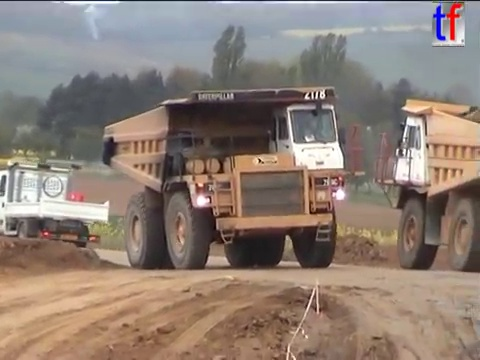truck: (99, 82, 362, 271), (373, 96, 480, 273), (1, 156, 112, 255)
